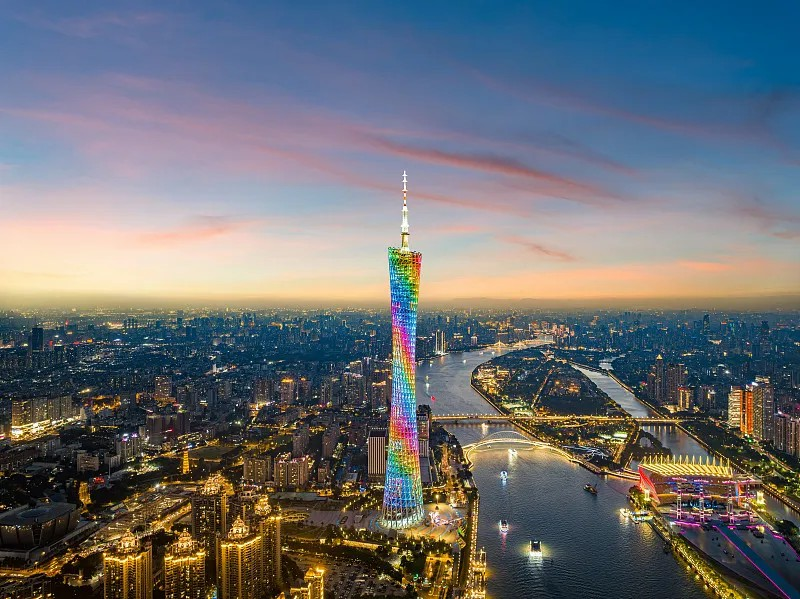Canton: (379, 170, 427, 530)
